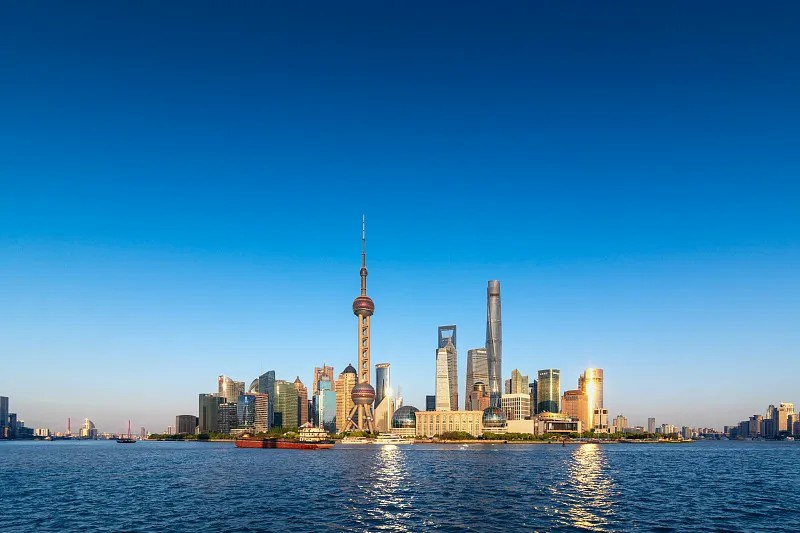Oriental: (342, 216, 377, 438)
